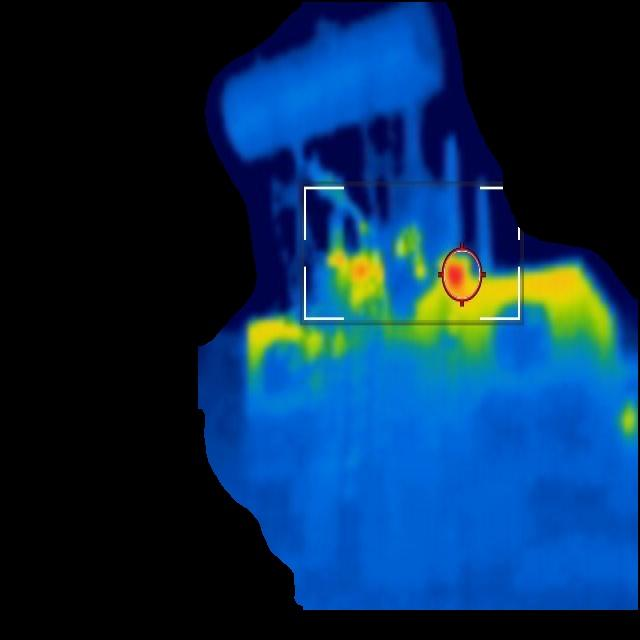Loose Joint F: (331, 253, 384, 301), (447, 258, 470, 292)
Transformer Overload: (251, 256, 615, 392)
